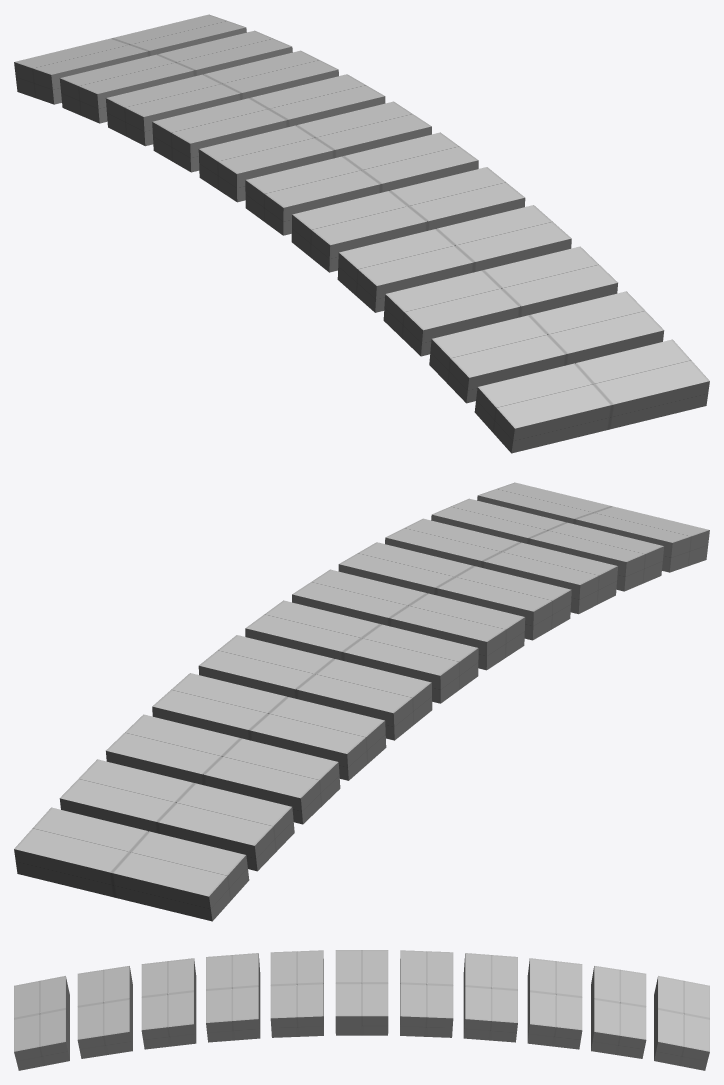
File: BridgeBoxBended.fbx
The picture shows the model from 3 angles, top to bottom: view 1: azimuth 30°, elevation 25°; view 2: azimuth 150°, elevation 25°; view 3: azimuth 270°, elevation 25°; orthographic projection. The views are drawn at different scales.
Parts seen in each view (by area): view 1: BridgeBoxBended; view 2: BridgeBoxBended; view 3: BridgeBoxBended.
Part boxes in pixels (x1=…): BridgeBoxBended: x1=14, y1=14, x2=709, y2=453; BridgeBoxBended: x1=14, y1=482, x2=709, y2=921; BridgeBoxBended: x1=14, y1=950, x2=709, y2=1070.
Bounding box in the file's own units: 6.57 × 2.53 × 29.2.
